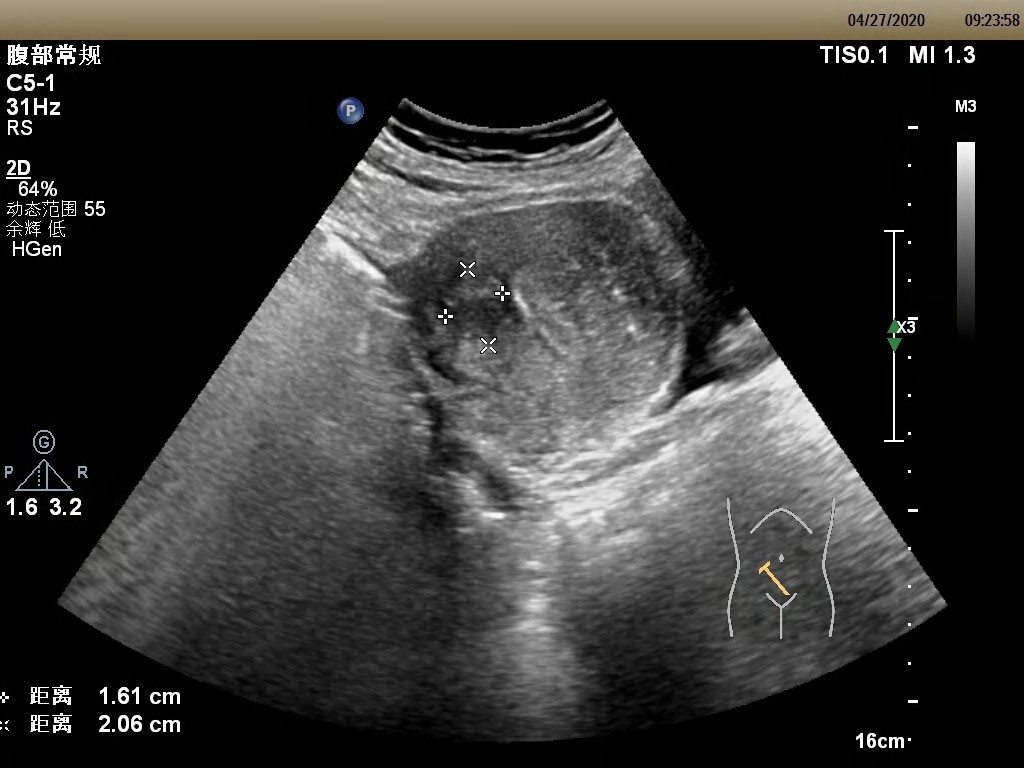肌瘤: (455, 275, 503, 331)
